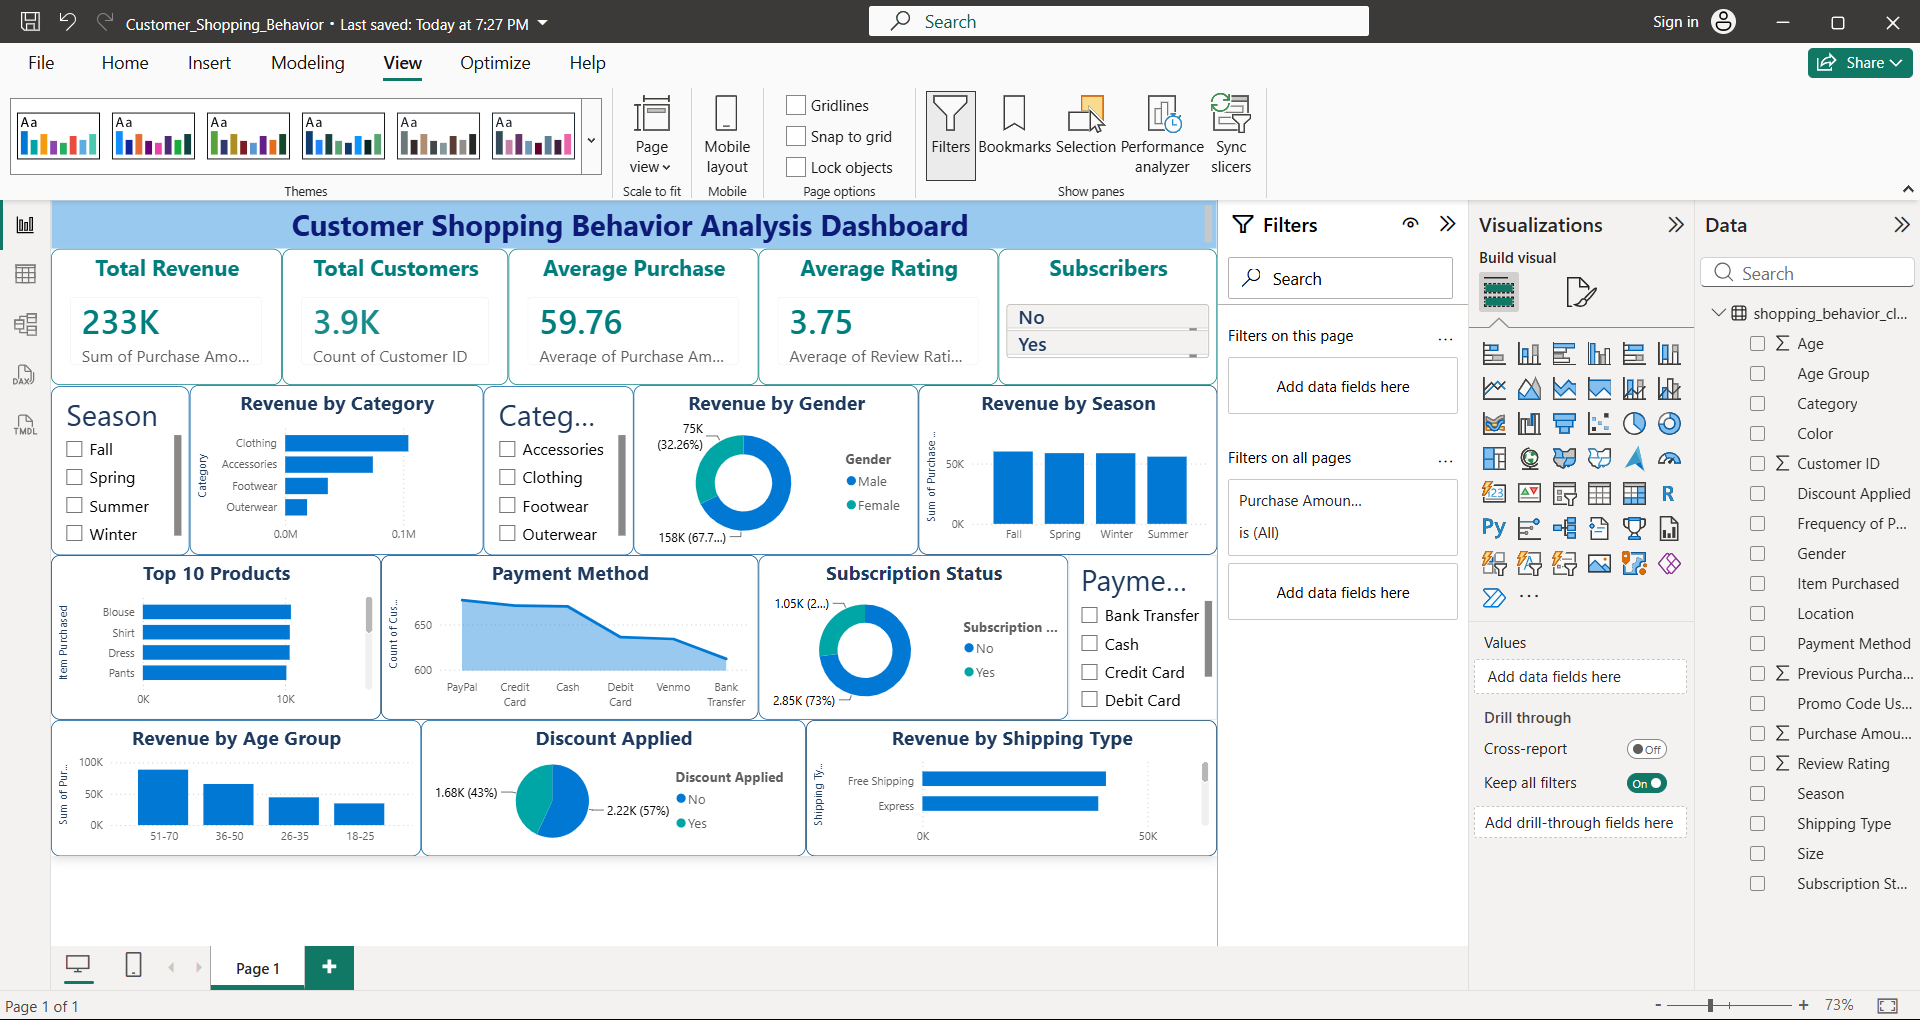

The page's visual inventory and layout, read from the dashboard file:
{"tool":"powerbi","page":{"name":"Page 1","canvas":[1280,720],"ordinal":0},"visuals":[{"type":"textbox","box":[0,0,1280.3,53.5],"z":0},{"type":"cardVisual","title":"Total Revenue","fields":{"Data":["Sum(shopping_behavior_cleaned.Purchase Amount (USD))"]},"box":[0,53.5,253.9,149.6],"z":1000},{"type":"cardVisual","title":"Total Customers","fields":{"Data":["CountNonNull(shopping_behavior_cleaned.Customer ID)"]},"box":[253.9,53.5,248.4,149.6],"z":2000},{"type":"cardVisual","title":"Average Purchase","fields":{"Data":["Avg(shopping_behavior_cleaned.Purchase Amount (USD))"]},"box":[502.2,53.5,274.4,149.6],"z":3000},{"type":"cardVisual","title":"Average Rating","fields":{"Data":["Avg(shopping_behavior_cleaned.Review Rating)"]},"box":[776.7,53.5,263.5,149.6],"z":4000},{"type":"cardVisual","title":"Subscribers","fields":{"Rows":["shopping_behavior_cleaned.Subscription Status"]},"box":[1040.1,53.5,240.1,149.6],"z":5000},{"type":"clusteredBarChart","title":"Revenue by Category","fields":{"Category":["shopping_behavior_cleaned.Category"],"Y":["Sum(shopping_behavior_cleaned.Purchase Amount (USD))"]},"box":[152.3,203.1,322.5,186.6],"z":6000},{"type":"donutChart","title":"Revenue by Gender ","fields":{"Category":["shopping_behavior_cleaned.Gender"],"Y":["Sum(shopping_behavior_cleaned.Purchase Amount (USD))"]},"box":[639.5,203.1,312.9,186.6],"z":7000},{"type":"clusteredColumnChart","title":"Revenue by Season  ","fields":{"Category":["shopping_behavior_cleaned.Season"],"Y":["Sum(shopping_behavior_cleaned.Purchase Amount (USD))"]},"box":[952.3,203.1,328,186.6],"z":8000},{"type":"clusteredBarChart","title":"Top 10 Products ","fields":{"Category":["shopping_behavior_cleaned.Item Purchased"],"Y":["Sum(shopping_behavior_cleaned.Purchase Amount (USD))"]},"box":[0,389.7,362.3,181.1],"z":9000},{"type":"areaChart","title":"Payment Method","fields":{"Category":["shopping_behavior_cleaned.Payment Method"],"Y":["CountNonNull(shopping_behavior_cleaned.Customer ID)"]},"box":[362.3,389.7,414.4,181.1],"z":10000},{"type":"donutChart","title":"Subscription Status   ","fields":{"Category":["shopping_behavior_cleaned.Subscription Status"],"Y":["CountNonNull(shopping_behavior_cleaned.Customer ID)"]},"box":[776.7,389.7,340.3,181.1],"z":11000},{"type":"clusteredColumnChart","title":"Revenue by Age Group","fields":{"Category":["shopping_behavior_cleaned.Age Group"],"Y":["Sum(shopping_behavior_cleaned.Purchase Amount (USD))"]},"box":[0,570.8,406.2,149.6],"z":12000},{"type":"pieChart","title":"Discount Applied","fields":{"Category":["shopping_behavior_cleaned.Discount Applied"],"Y":["CountNonNull(shopping_behavior_cleaned.Customer ID)"]},"box":[406.2,570.8,422.6,149.6],"z":13000},{"type":"clusteredBarChart","title":"Revenue by Shipping Type","fields":{"Category":["shopping_behavior_cleaned.Shipping Type"],"Y":["Sum(shopping_behavior_cleaned.Purchase Amount (USD))"]},"box":[828.8,570.8,451.5,149.6],"z":14000},{"type":"slicer","fields":{"Values":["shopping_behavior_cleaned.Season"]},"box":[0,204.5,152.3,185.2],"z":14001},{"type":"slicer","fields":{"Values":["shopping_behavior_cleaned.Category"]},"box":[474.8,204.5,164.7,185.2],"z":14002},{"type":"slicer","fields":{"Values":["shopping_behavior_cleaned.Payment Method"]},"box":[1117,390,163,181],"z":14003}]}

Visuals, with their boxes on the page's 1280x720 design canvas (x1, y1, x2, y2). These are canvas units, not pixel positions in the 1920x1020 screenshot, which may show the page scaled, cropped or inside an application window:
textbox: 0, 0, 1280, 54
"Total Revenue" cardVisual: 0, 54, 254, 203
"Total Customers" cardVisual: 254, 54, 502, 203
"Average Purchase" cardVisual: 502, 54, 777, 203
"Average Rating" cardVisual: 777, 54, 1040, 203
"Subscribers" cardVisual: 1040, 54, 1280, 203
"Revenue by Category" clusteredBarChart: 152, 203, 475, 390
"Revenue by Gender " donutChart: 640, 203, 952, 390
"Revenue by Season  " clusteredColumnChart: 952, 203, 1280, 390
"Top 10 Products " clusteredBarChart: 0, 390, 362, 571
"Payment Method" areaChart: 362, 390, 777, 571
"Subscription Status   " donutChart: 777, 390, 1117, 571
"Revenue by Age Group" clusteredColumnChart: 0, 571, 406, 720
"Discount Applied" pieChart: 406, 571, 829, 720
"Revenue by Shipping Type" clusteredBarChart: 829, 571, 1280, 720
slicer - shopping_behavior_cleaned.Season: 0, 204, 152, 390
slicer - shopping_behavior_cleaned.Category: 475, 204, 640, 390
slicer - shopping_behavior_cleaned.Payment Method: 1117, 390, 1280, 571
